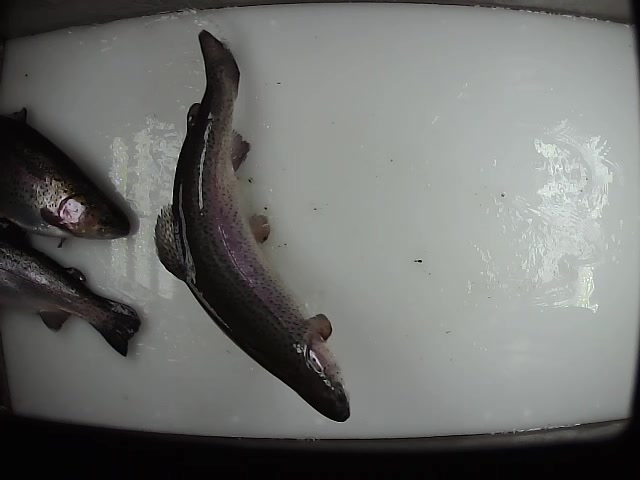Fish: (157, 28, 350, 422)
